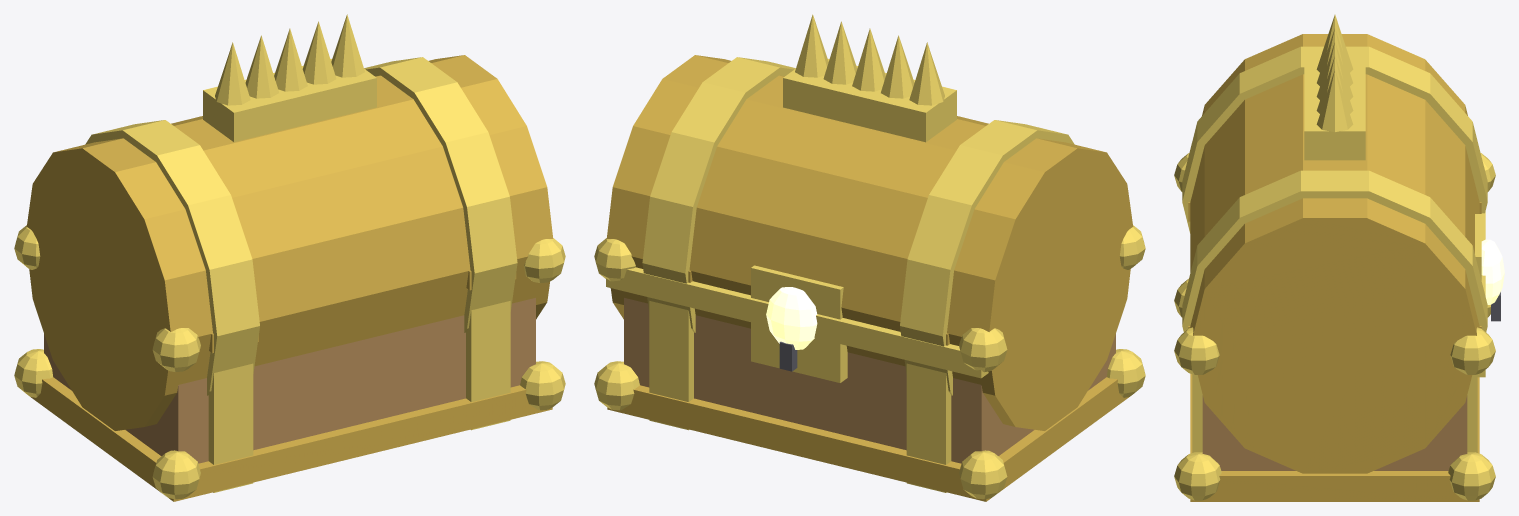
Rendered from CROWN.glb.
3 views of the same model, side by side, from view 1: azimuth 30°, elevation 25°; view 2: azimuth 150°, elevation 25°; view 3: azimuth 270°, elevation 25° (orthographic).
Visible parts, largest first — view 1: Lid, Body; view 2: Lid, Body; view 3: Lid, Body.
Boxes of the visible parts, x1,y1,x2,y2 form: Lid: (26, 14, 553, 430); Body: (14, 225, 565, 501); Lid: (606, 14, 1133, 430); Body: (594, 225, 1145, 501); Lid: (1182, 14, 1504, 473); Body: (1174, 153, 1495, 501).
Bounding box in the file's own units: 2.27 × 2.01 × 1.62.
